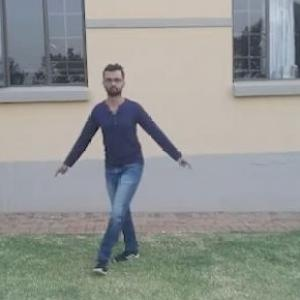land: (56, 72, 182, 248)
